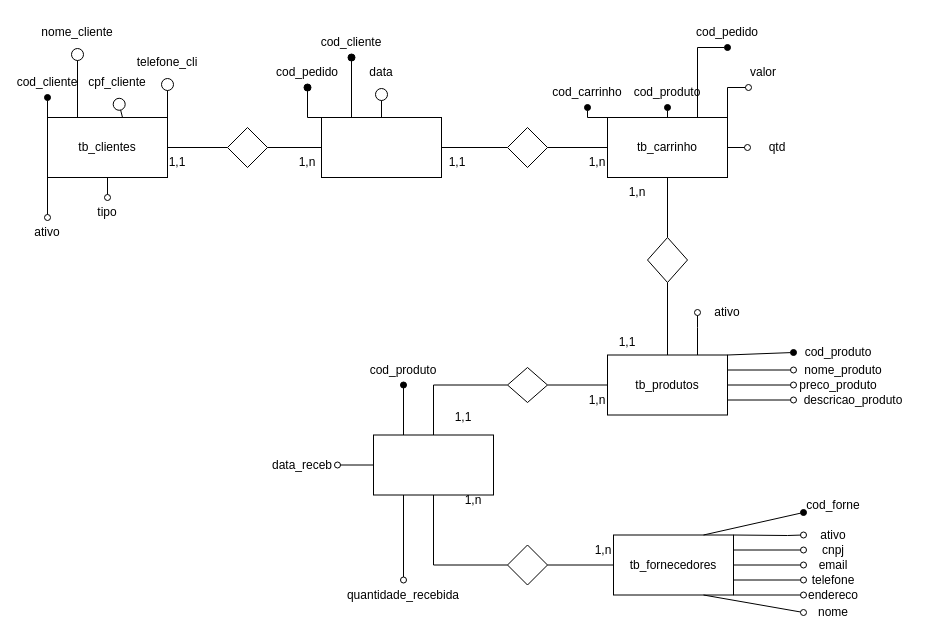
The diagram is 931 pixels wide and 644 high, and some of its shapes have lost their labels. The shapes that lost their labels are listed below. From the top down, each one's centre as x and y in pixels, then its label:
At (381,147): "tb_pedidos".
At (433,464): "tb_recebimentos".
